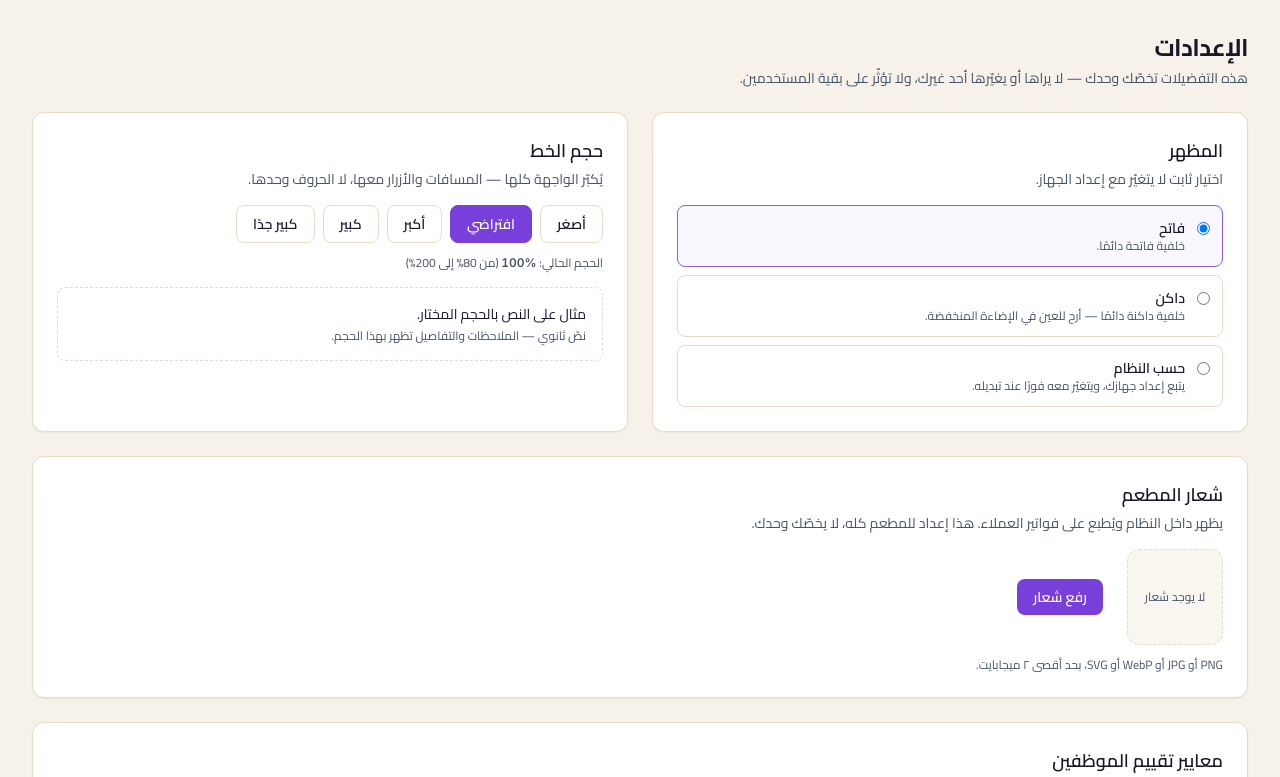
Test case: picking a text size › offers Apply only once something has actually changed
The image size is (1280, 777).
What coordinates should you click on to do the following:
click the button "كبير"
I would click on:
 (350, 224)
Its box is x1=322 y1=205 x2=378 y2=243.
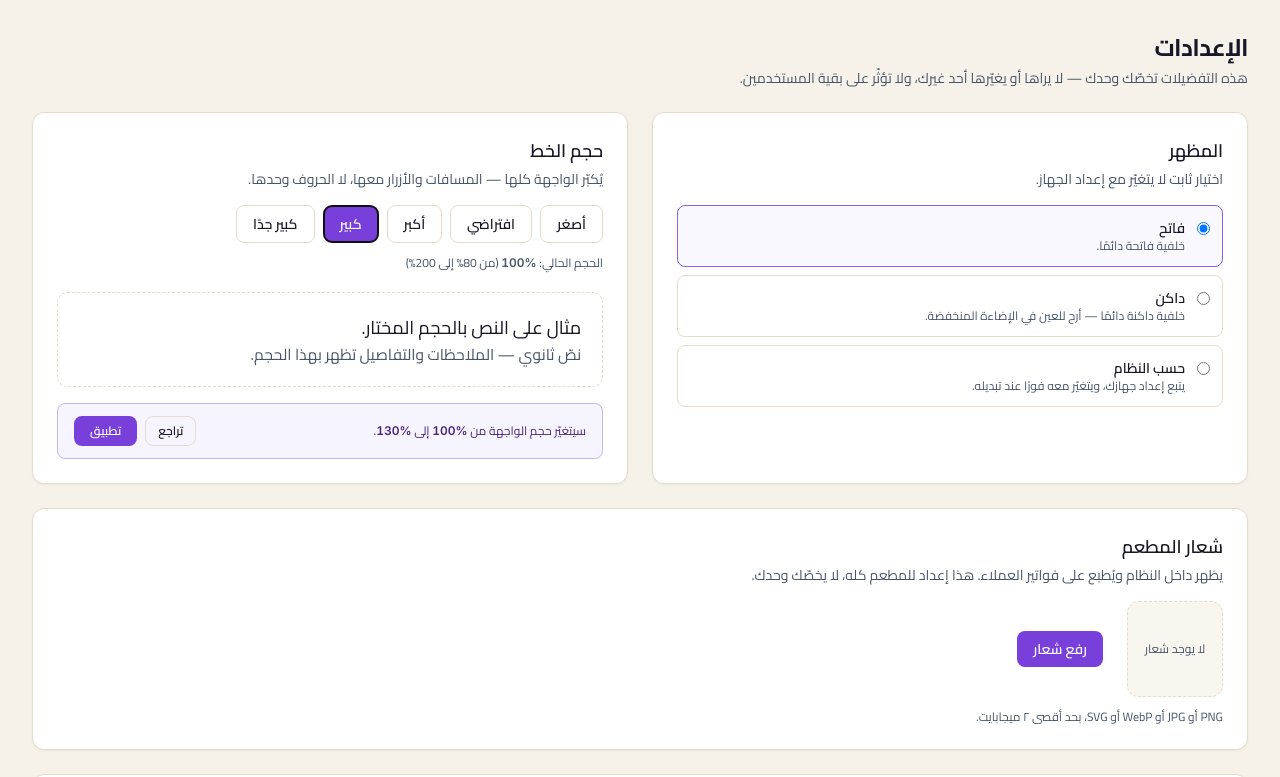
expect the element with test id "text-scale-apply" is shown: met, box x1=57 y1=403 x2=603 y2=459
